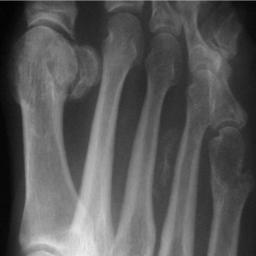cancer: (208, 127, 256, 207)
